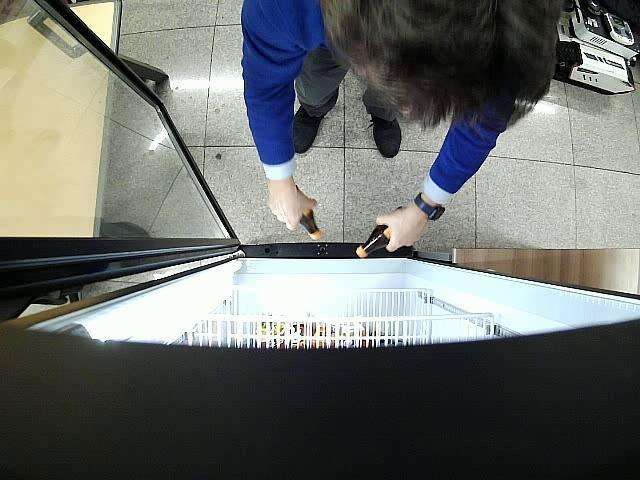17_vita500: (296, 186, 322, 239), (356, 224, 391, 258)
